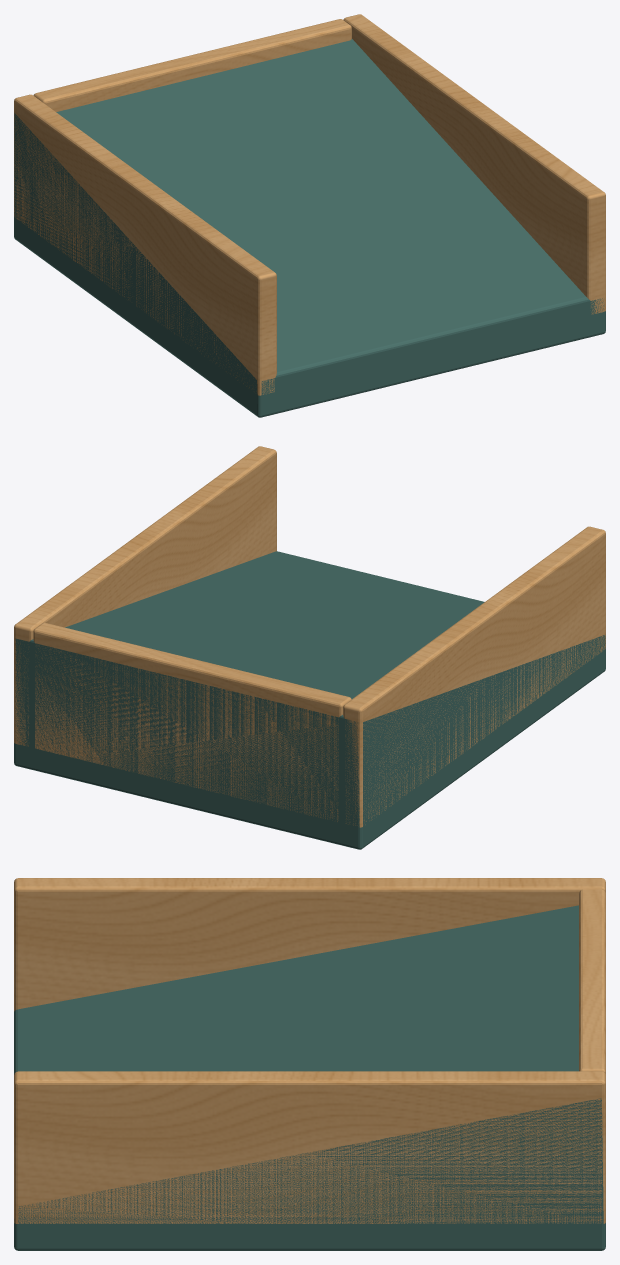
Rendered from liftPlatform.glb.
3 views of the same model, one above another, from view 1: azimuth 30°, elevation 25°; view 2: azimuth 150°, elevation 25°; view 3: azimuth 270°, elevation 25° (orthographic). The views are drawn at different scales.
Parts seen in each view (by area): view 1: liftPlatform; view 2: liftPlatform; view 3: liftPlatform.
Part boxes in pixels (left/top/right/bottom): liftPlatform: left=14, top=14, right=605, bottom=417; liftPlatform: left=14, top=446, right=605, bottom=849; liftPlatform: left=14, top=878, right=605, bottom=1250.
Size of the model in its own units: 0.036 by 0.014 by 0.044.
2 materials, 1 textured.
